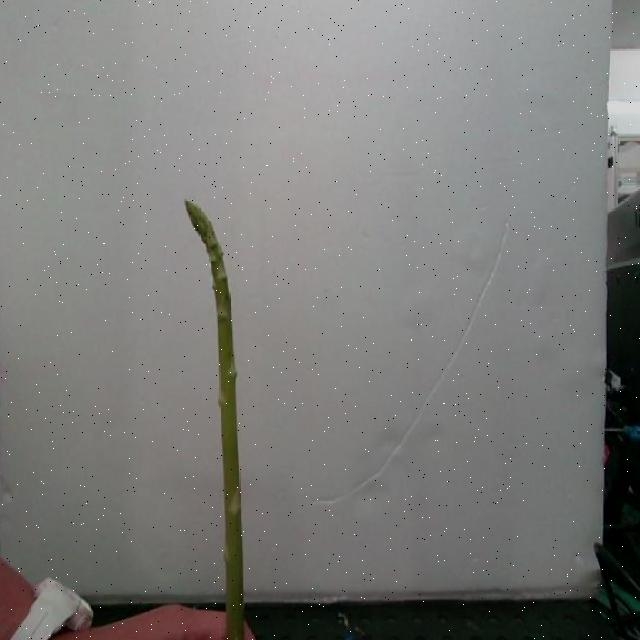aspargus: (184, 202, 254, 640)
